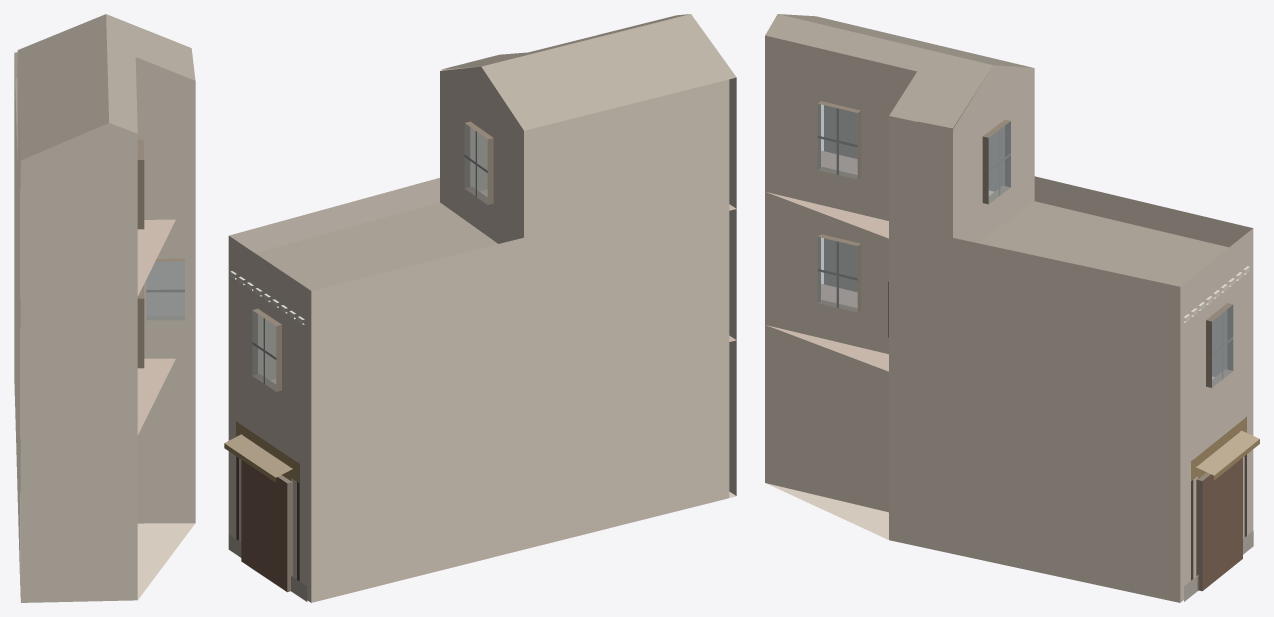
The picture shows the model from 3 angles, left to right: view 1: azimuth 30°, elevation 25°; view 2: azimuth 150°, elevation 25°; view 3: azimuth 270°, elevation 25°; orthographic projection. The views are drawn at different scales.
Parts seen in each view (by area): view 1: N-50.south_rear_three_storey_roofed, N-50.north_front_two_storey_flat; view 2: N-50.south_rear_three_storey_roofed, N-50.north_front_two_storey_flat; view 3: N-50.north_front_two_storey_flat, N-50.south_rear_three_storey_roofed.
Part boxes in pixels (x1=…): N-50.south_rear_three_storey_roofed: x1=17, y1=14, x2=195, y2=602; N-50.north_front_two_storey_flat: x1=14, y1=52, x2=17, y2=490; N-50.south_rear_three_storey_roofed: x1=440, y1=14, x2=736, y2=549; N-50.north_front_two_storey_flat: x1=224, y1=178, x2=523, y2=602; N-50.north_front_two_storey_flat: x1=953, y1=176, x2=1259, y2=602; N-50.south_rear_three_storey_roofed: x1=765, y1=14, x2=1034, y2=553.
Size of what is drawn, in the model's own units: 8.37 by 11.02 by 10.78.
